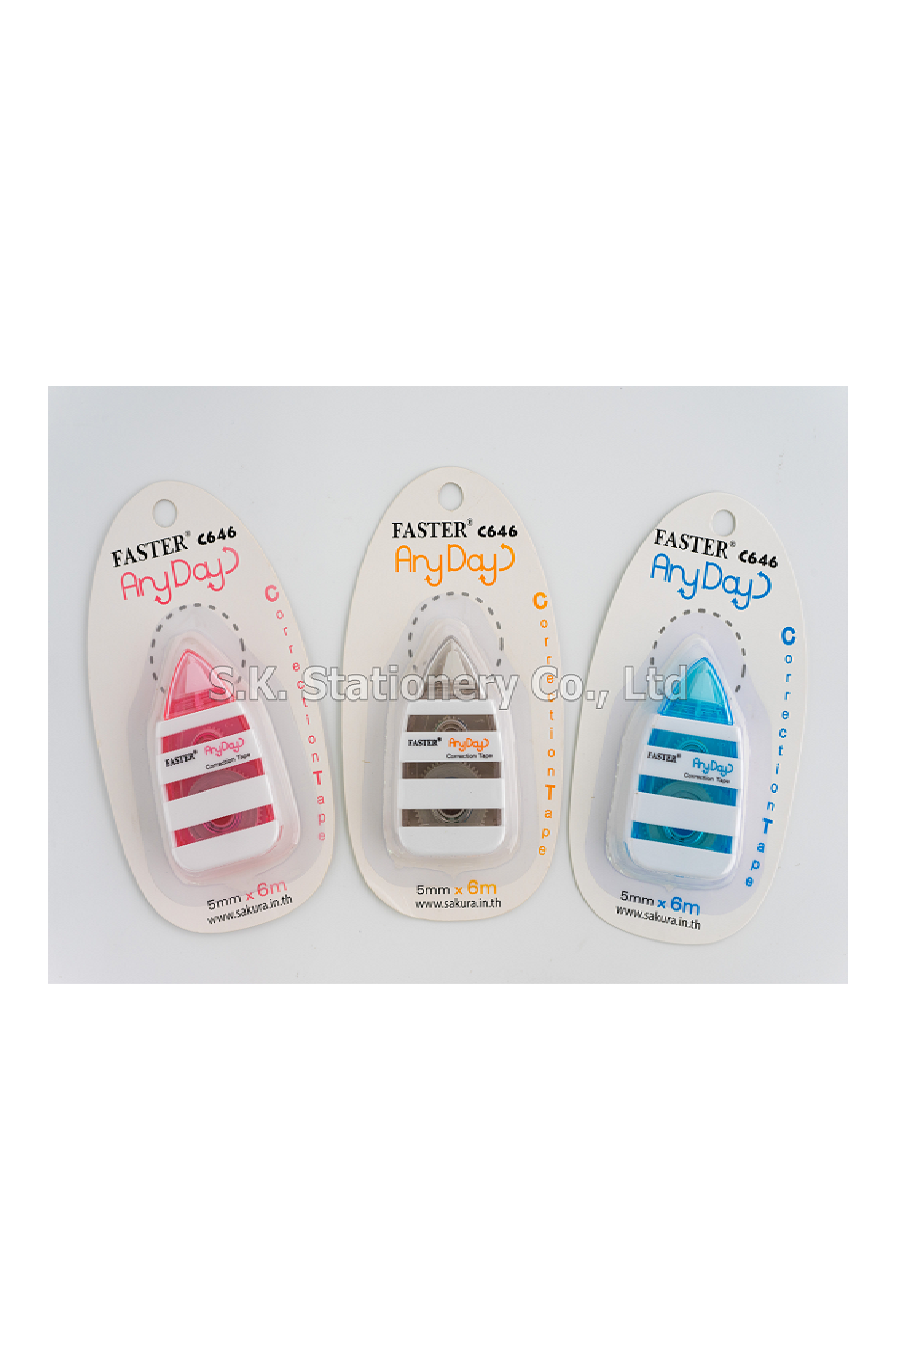Correction_fluid: (602, 648, 763, 894), (144, 645, 304, 879), (376, 633, 517, 871)
